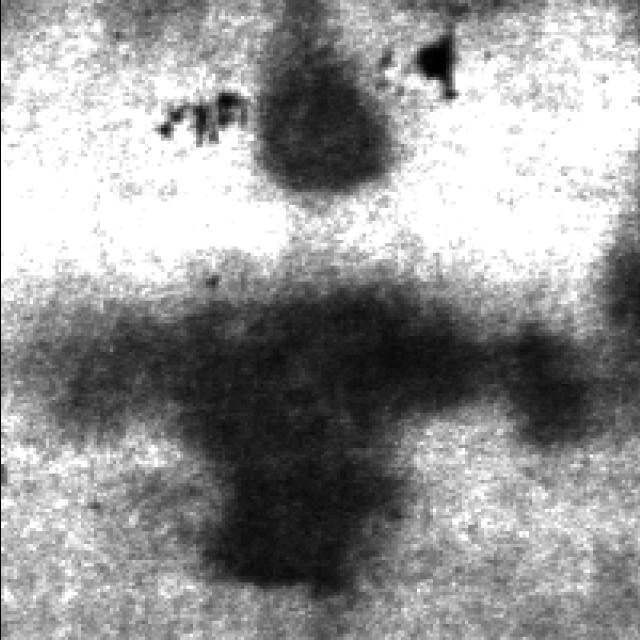patches: (207, 278, 433, 566), (154, 20, 466, 188), (389, 284, 613, 458), (21, 289, 210, 452)
